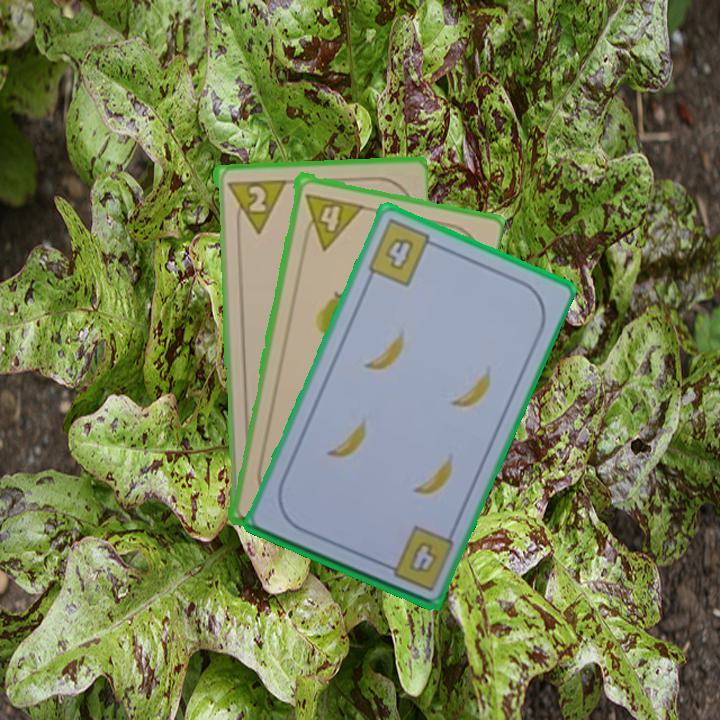2p: (243, 181, 268, 215)
4b: (364, 215, 442, 290), (378, 522, 457, 594)
4p: (298, 190, 364, 251)
